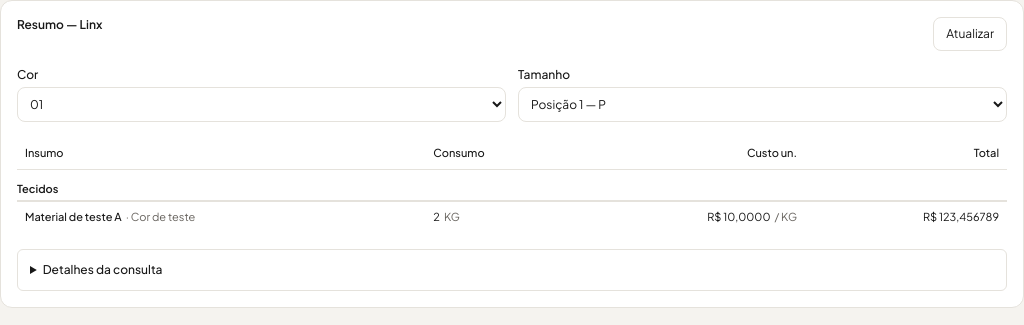
Custos do Linx — dados originais sem suposições › o resumo compacto preserva o resultado original e a seleção de cor e tamanho
The image size is (1024, 325).
Expected: the text "R$ 123,456789" is shown, [805, 201, 1007, 233]
Expected: the text "20,0000" is not shown
Select "Posição 2 — M" in the dropdown labelled "Tamanho" at (762, 104), box [518, 87, 1007, 122]
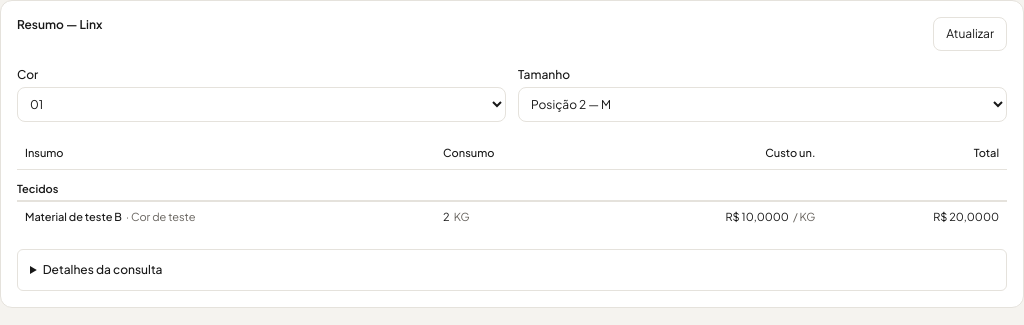
Expected: the text "Material de teste B" is shown, [25, 210, 122, 223]
Expected: the text "Material de teste A" is gone
Select "02" in the dropdown labelled "Cor" at (262, 104), box [17, 87, 506, 122]
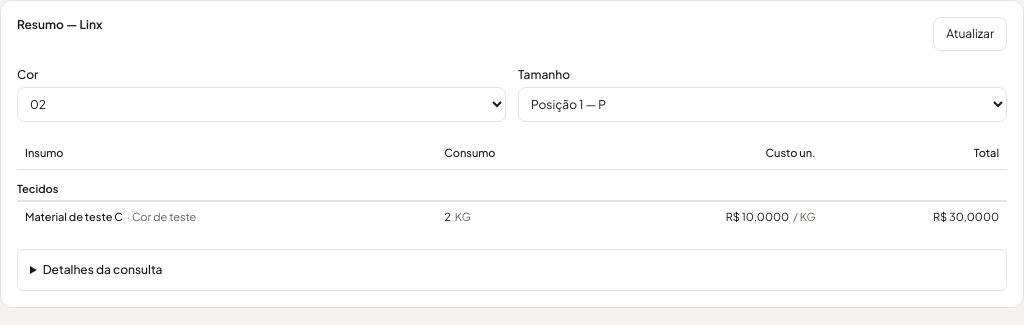
Expected: the text "Material de teste C" is shown, [25, 210, 123, 223]
Expected: the text "R$ 30,0000" is shown, [824, 201, 1007, 233]
